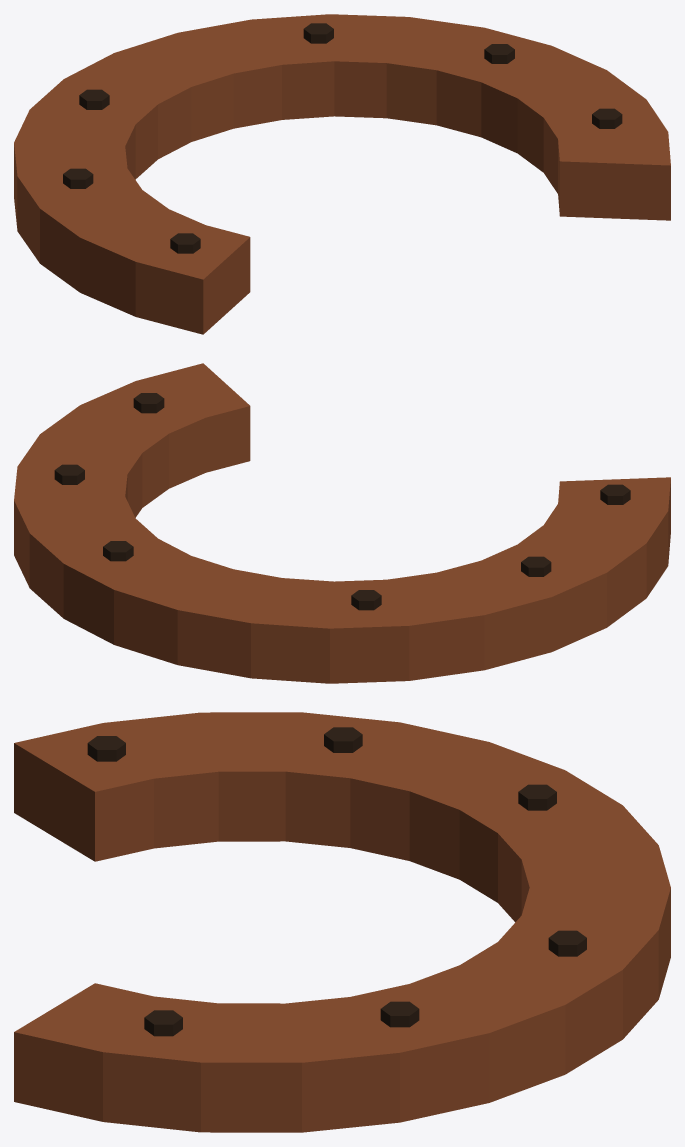
Rendered from FindHorseshoe.glb.
3 views of the same model, one above another, from view 1: azimuth 30°, elevation 25°; view 2: azimuth 150°, elevation 25°; view 3: azimuth 270°, elevation 25° (orthographic). The views are drawn at different scales.
Visible parts, largest first — view 1: Shoe_1.001; view 2: Shoe_1.001; view 3: Shoe_1.001.
Part boxes in pixels (<box>): Shoe_1.001: <box>14,14,670,334</box>; Shoe_1.001: <box>14,363,670,683</box>; Shoe_1.001: <box>14,712,670,1132</box>.
Bounding box in the file's own units: 0.1291 × 0.014 × 0.1023.
